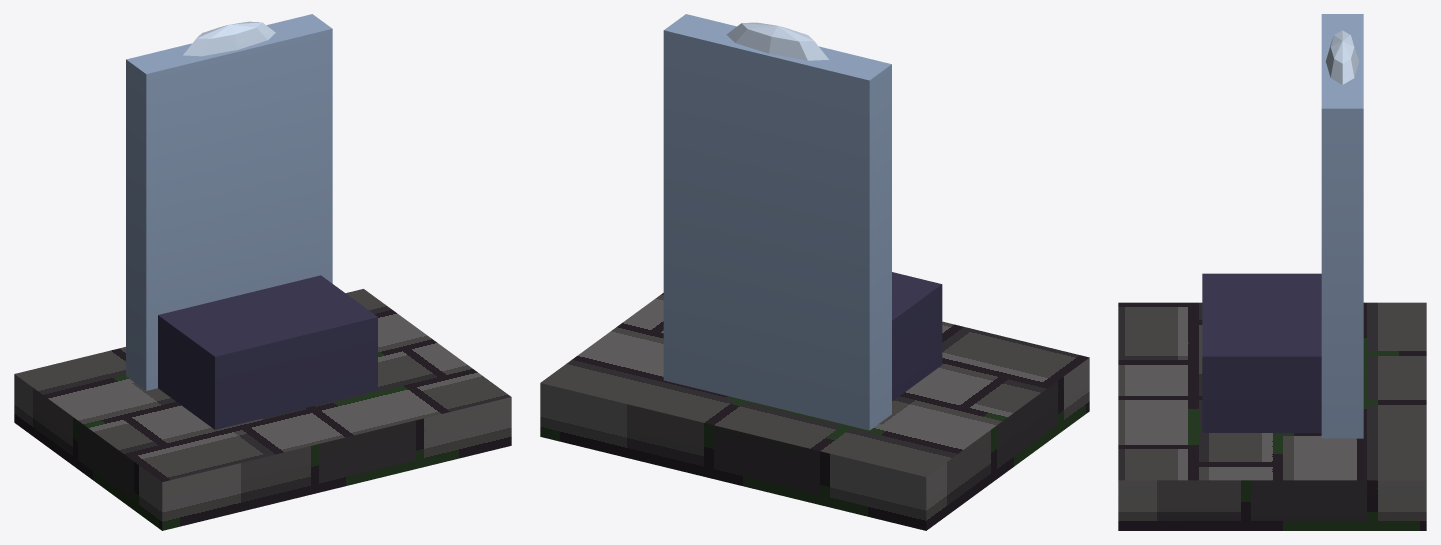
File: salon_seat.glb
The picture shows the model from 3 angles, left to right: view 1: azimuth 30°, elevation 25°; view 2: azimuth 150°, elevation 25°; view 3: azimuth 270°, elevation 25°; orthographic projection. The views are drawn at different scales.
Visible parts, largest first — view 1: salon_seat; view 2: salon_seat; view 3: salon_seat.
Part boxes in pixels (box(x1,y1,x2,y2)): salon_seat: box(14, 14, 511, 530); salon_seat: box(540, 14, 1089, 530); salon_seat: box(1118, 14, 1426, 530).
Size of the model in its own units: 3 by 3.16 by 2.2.
2 materials, 1 textured.
